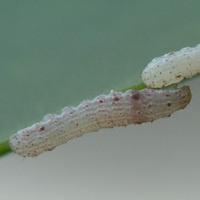insect: (142, 44, 199, 87)
